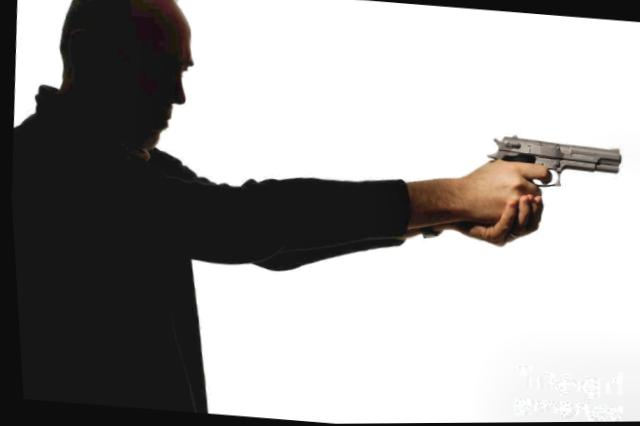pistol: (480, 130, 623, 202)
